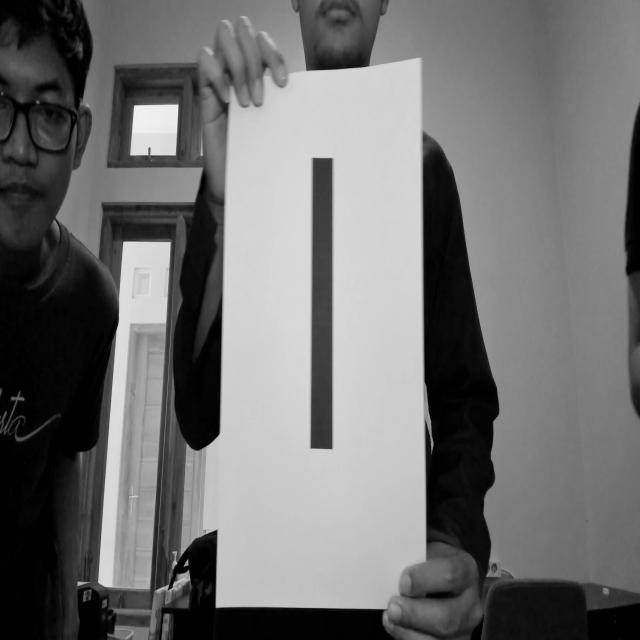i: (264, 129, 384, 490)
